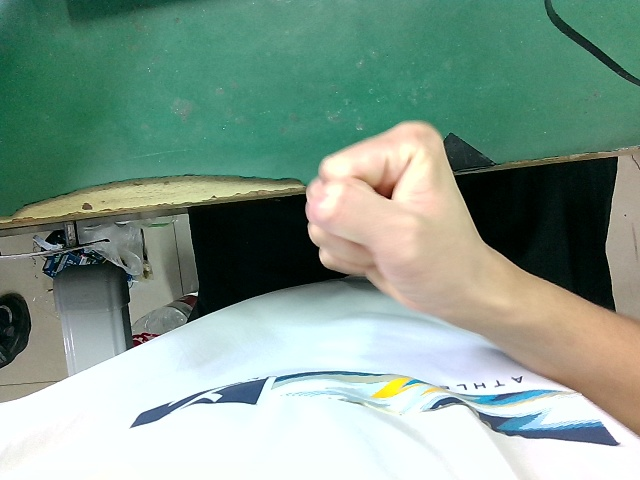stone: (298, 112, 498, 317)
